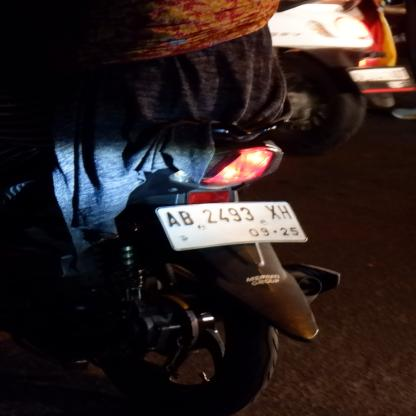Plat-Nomor: (145, 198, 312, 252)
